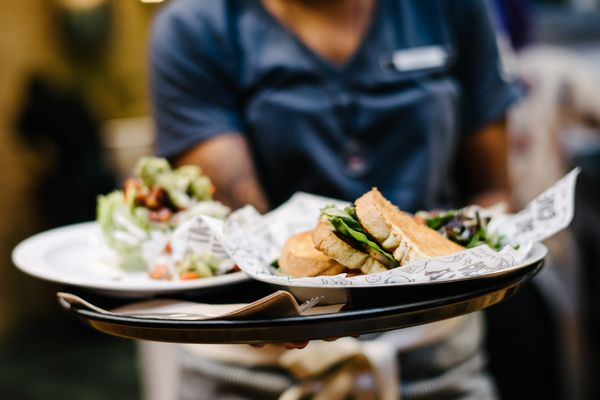soup: (285, 202, 404, 276)
